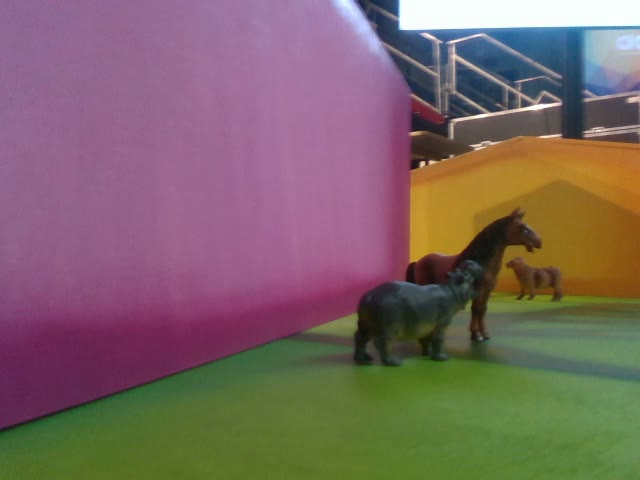toy: (355, 258, 482, 366), (507, 257, 564, 303)
